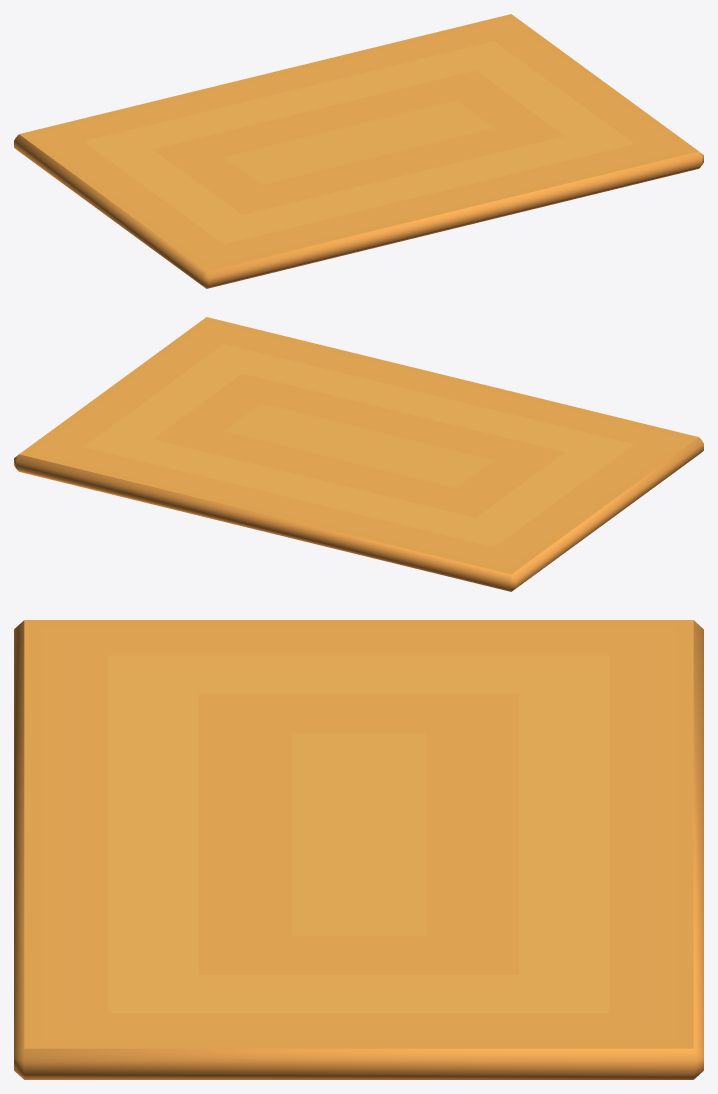
The model's file is rug_rectangle_stripes_A.obj.
The picture shows the model from 3 angles, top to bottom: view 1: azimuth 30°, elevation 25°; view 2: azimuth 150°, elevation 25°; view 3: azimuth 270°, elevation 25°; orthographic projection. The views are drawn at different scales.
Parts seen in each view (by area): view 1: rug_rectangle_stripes_A_Cube.022; view 2: rug_rectangle_stripes_A_Cube.022; view 3: rug_rectangle_stripes_A_Cube.022.
Boxes of the visible parts, box(x1,y1,x2,y2) form: rug_rectangle_stripes_A_Cube.022: box(14, 14, 703, 288); rug_rectangle_stripes_A_Cube.022: box(14, 317, 703, 591); rug_rectangle_stripes_A_Cube.022: box(14, 620, 703, 1079).
Size of the model in its own units: 3 by 0.1 by 2.
Materials: 1 (1 with a texture image).
